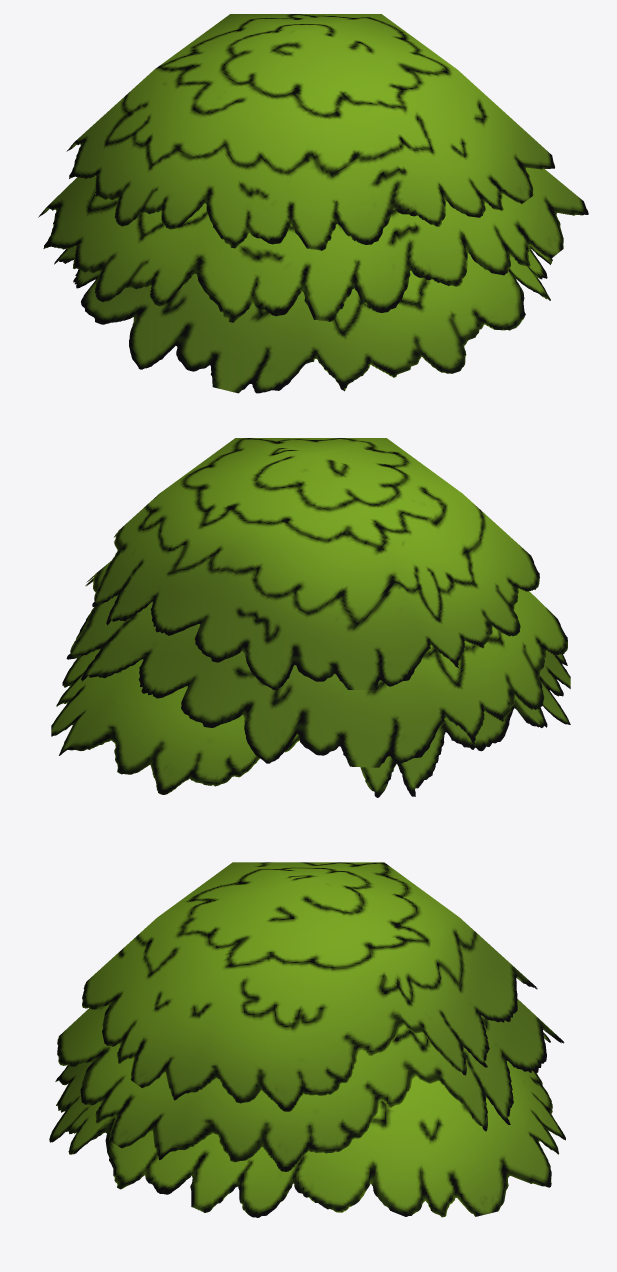
File: Bush_01.fbx
The picture shows the model from 3 angles, top to bottom: view 1: azimuth 30°, elevation 25°; view 2: azimuth 150°, elevation 25°; view 3: azimuth 270°, elevation 25°; orthographic projection.
Visible parts, largest first — view 1: Bush_01; view 2: Bush_01; view 3: Bush_01.
Part boxes in pixels (bbox=[...]): Bush_01: bbox=[38, 14, 588, 393]; Bush_01: bbox=[51, 438, 570, 797]; Bush_01: bbox=[49, 862, 565, 1217].
Size of the model in its own units: 117 by 53.9 by 115.
